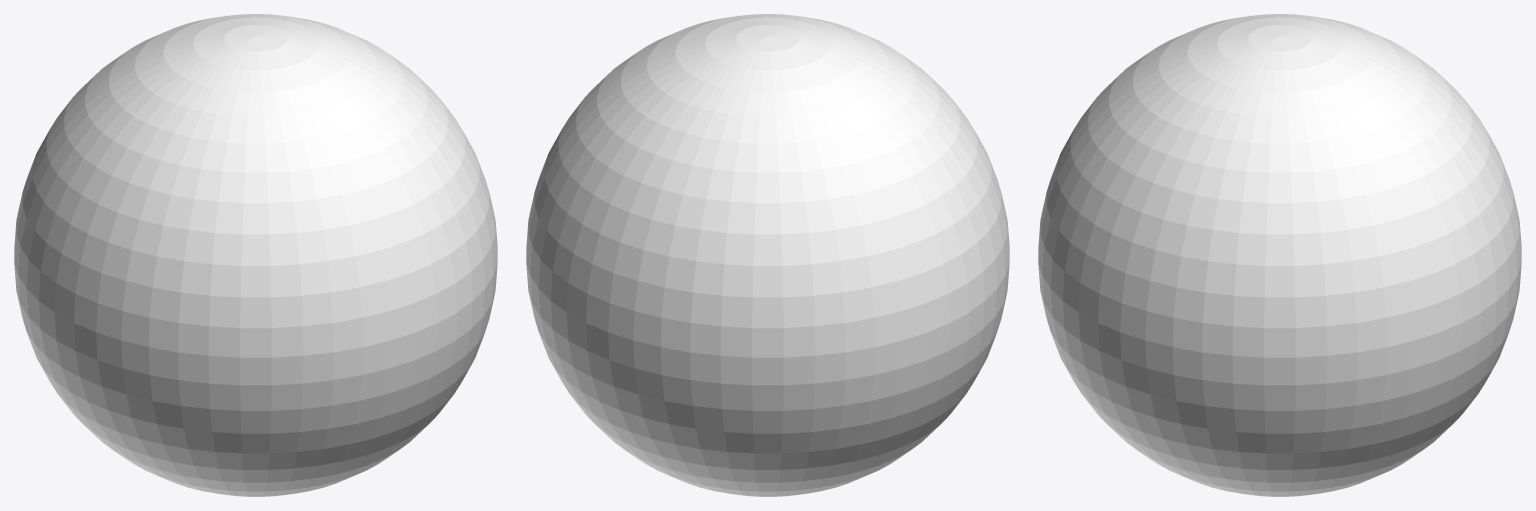
File: white_hole.obj
The picture shows the model from 3 angles, left to right: view 1: azimuth 30°, elevation 25°; view 2: azimuth 150°, elevation 25°; view 3: azimuth 270°, elevation 25°; orthographic projection.
Visible parts, largest first — view 1: sphere; view 2: sphere; view 3: sphere.
Part boxes in pixels (x1,y1,x2,y2): sphere: (14,14,497,496); sphere: (526,14,1009,496); sphere: (1038,14,1521,496).
Size of the model in its own units: 24 by 24 by 24.
